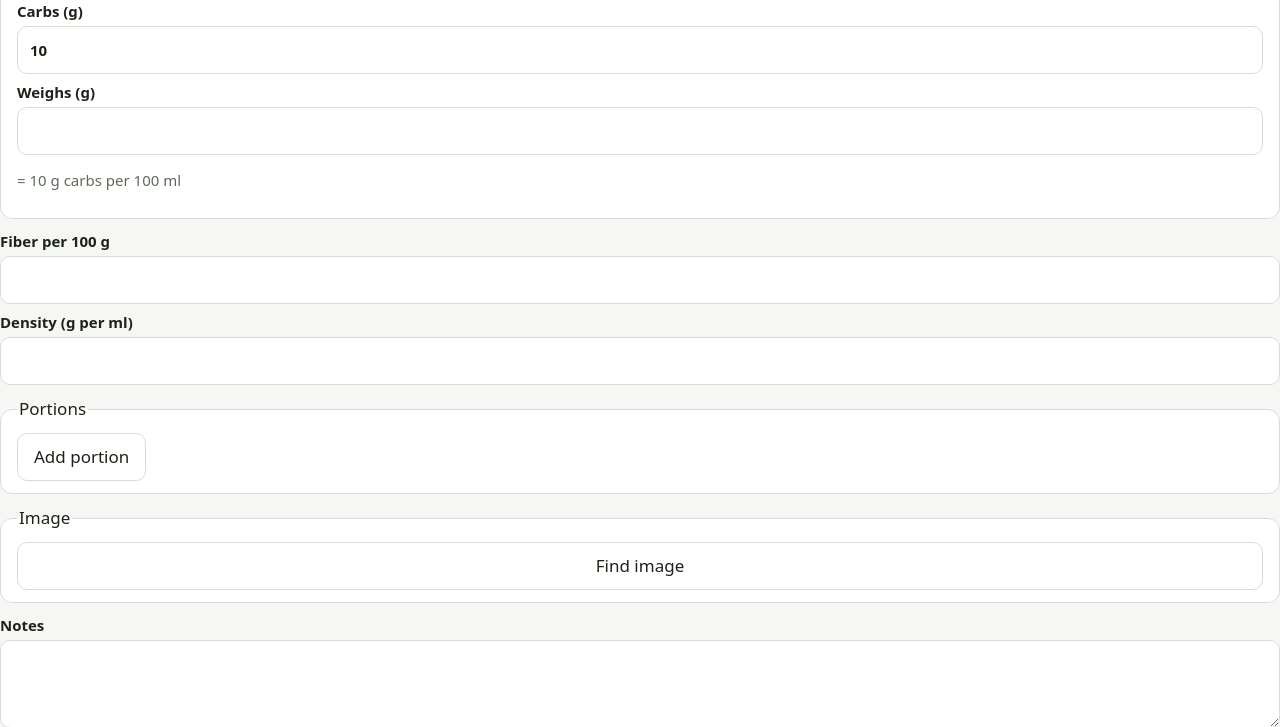
Test: FoodEditor: keeps the carb basis the user did not edit › warns inline (and would block on save) when a portion row disagrees with the "From label" volume entry
(page scrolled)
Click the button "Add portion".
click(82, 457)  # box left=17, top=433, right=146, bottom=481
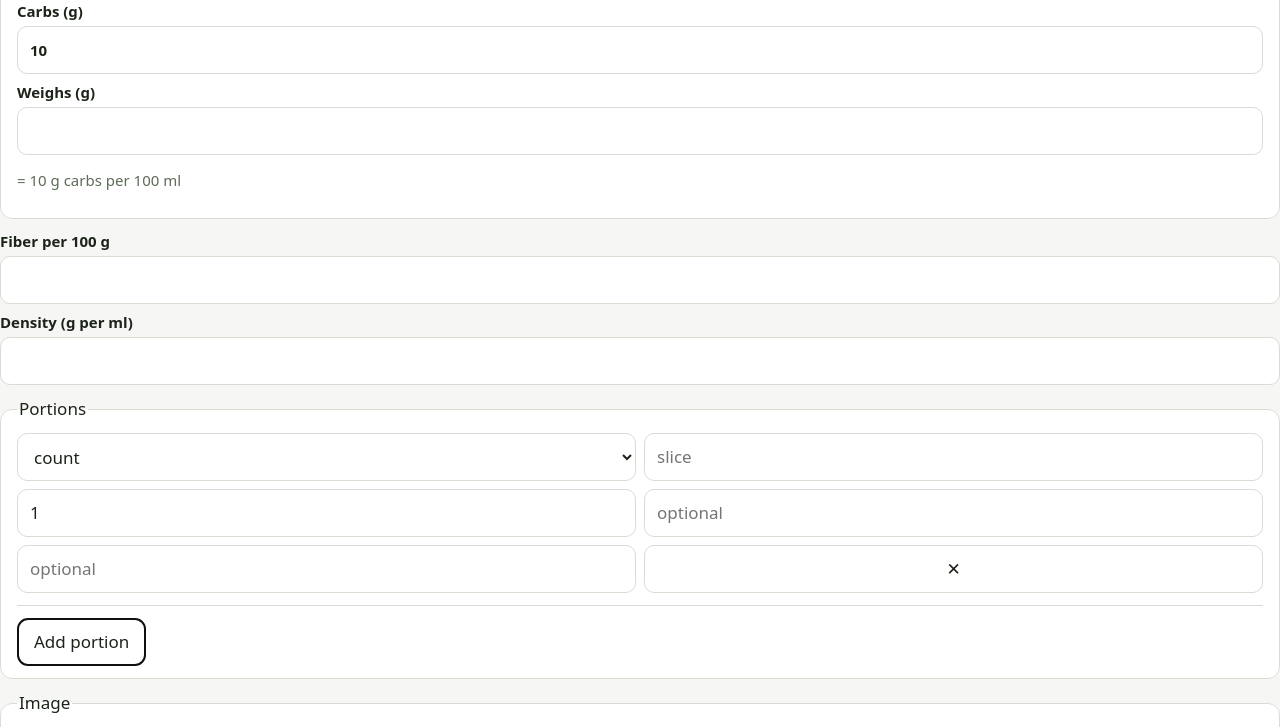
Select "volume" in the dropdown named "Portion 1 kind" at [326, 457], box left=17, top=433, right=636, bottom=481
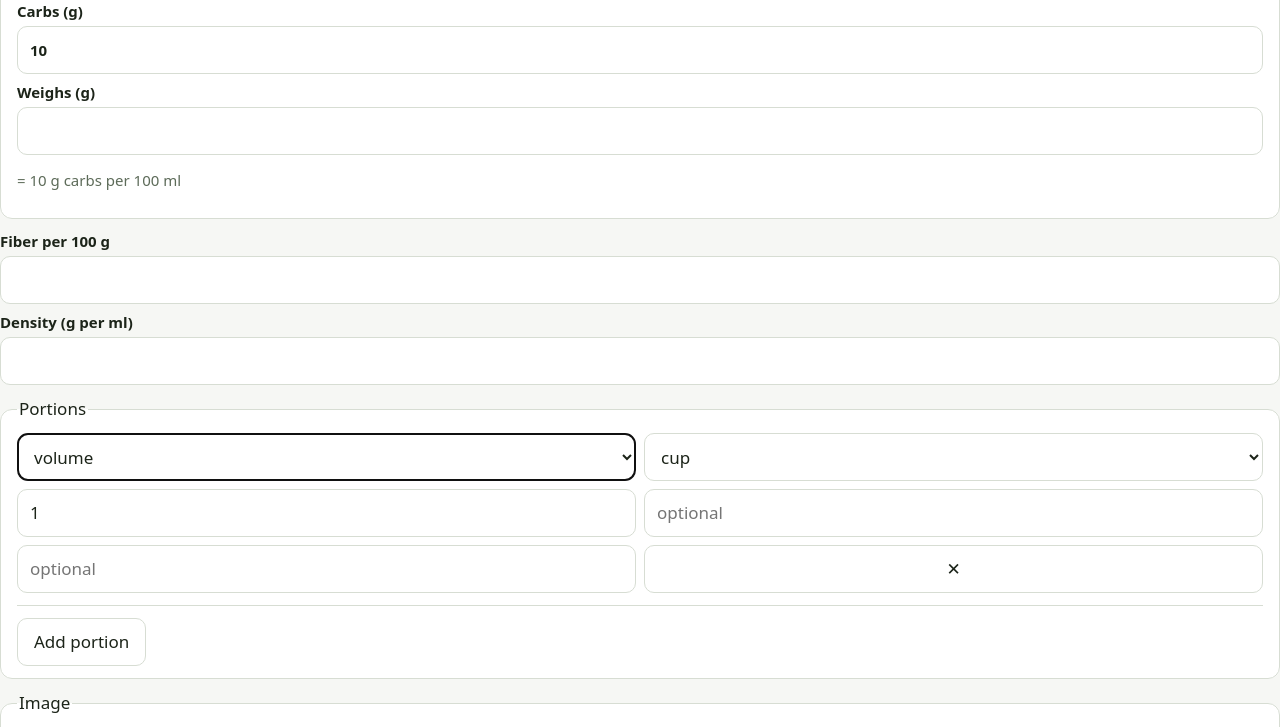
Select "cup" in the dropdown named "Portion 1 label" at [954, 457], box left=644, top=433, right=1263, bottom=481
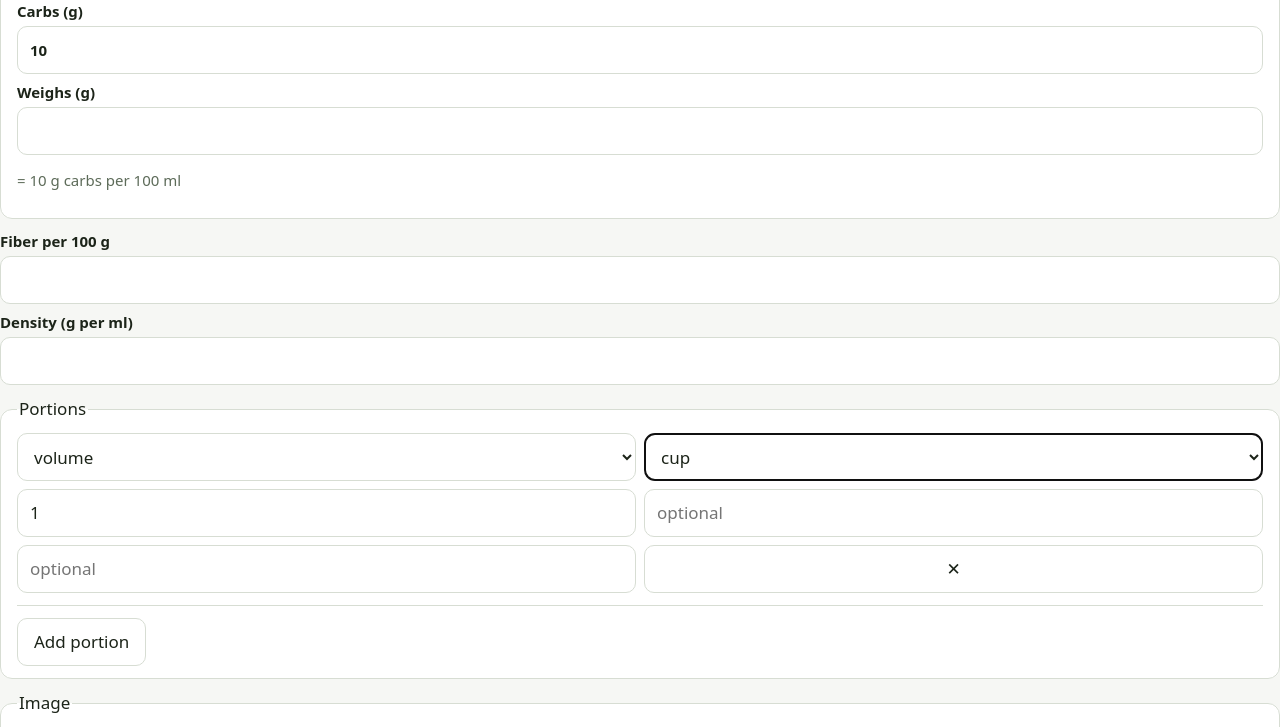
Replace the text in the field named "Portion 1 quantity" with "2/3" at [326, 513], box left=17, top=489, right=636, bottom=537
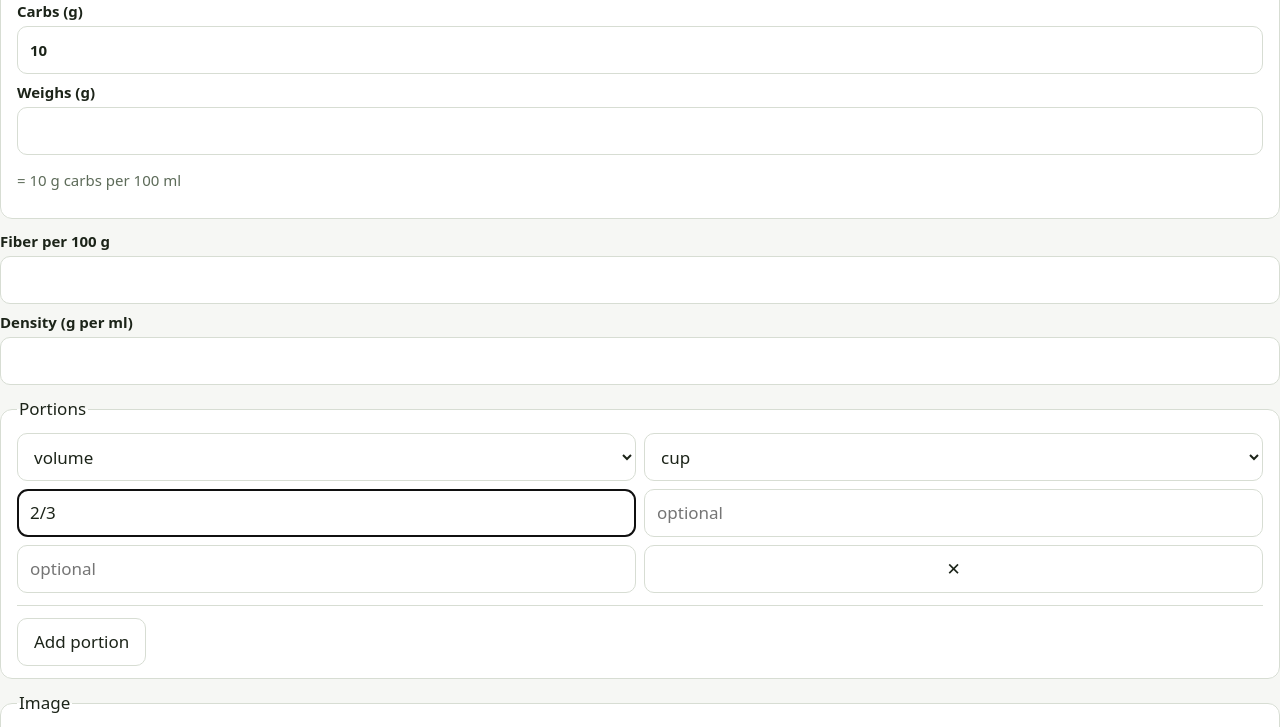
Type "30" into the field named "Portion 1 carbs (g)".
click(326, 569); type("30")  # box left=17, top=545, right=636, bottom=593
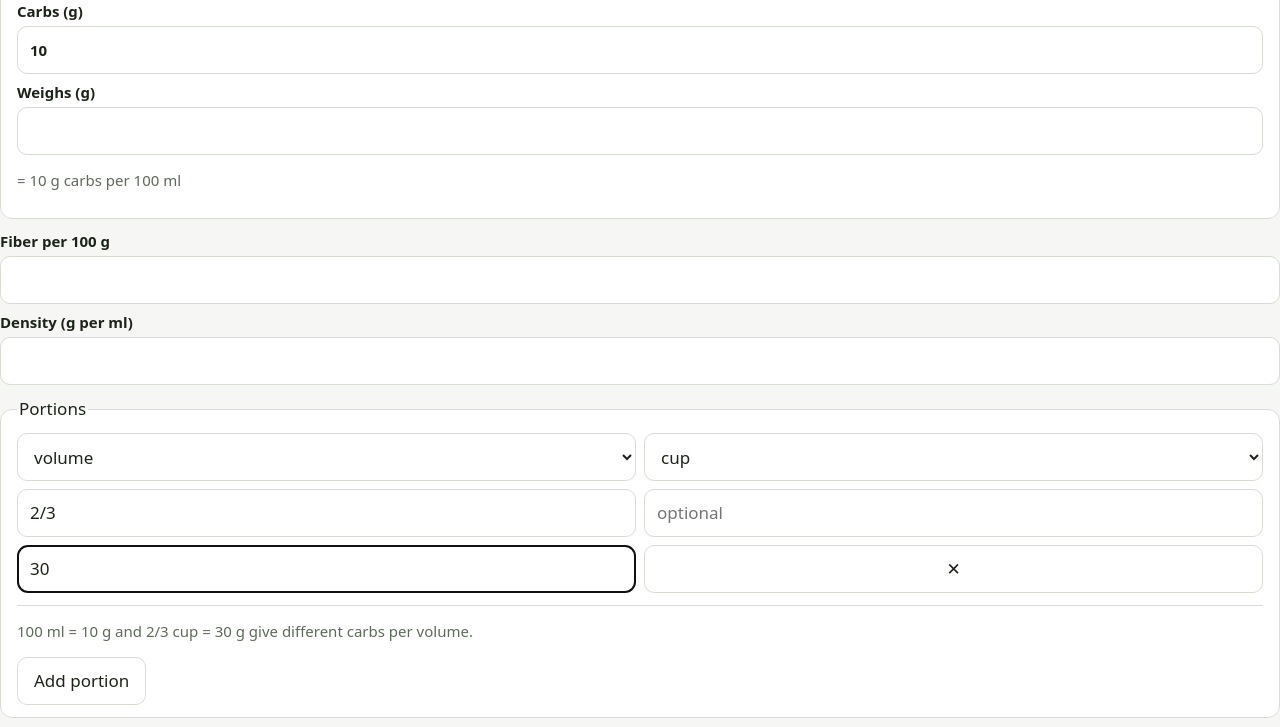
Expected: the text with test id "portion-carbs-override-note" shows "100 ml = 10 g and 2/3 cup = 30 g give different carbs per volume", left=17, top=621, right=473, bottom=641
